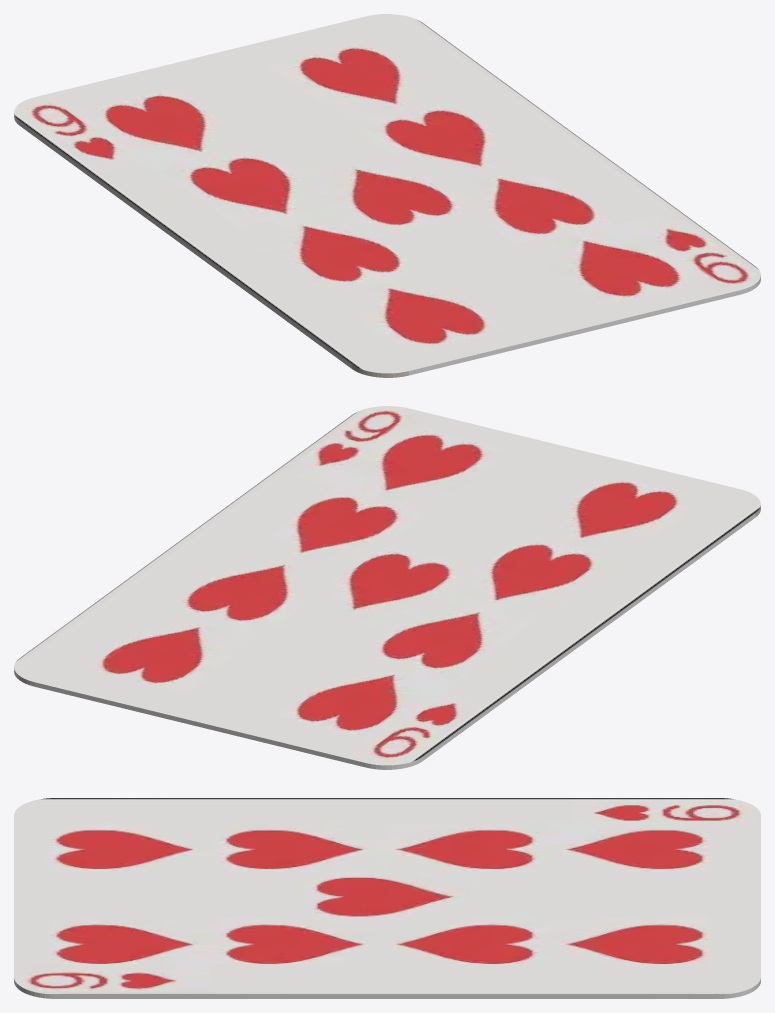
The model's file is 9 of hearts.fbx.
3 renders of one model, top to bottom at view 1: azimuth 30°, elevation 25°; view 2: azimuth 150°, elevation 25°; view 3: azimuth 270°, elevation 25°, orthographic.
Parts seen in each view (by area): view 1: Cube; view 2: Cube; view 3: Cube.
Part boxes in pixels (<box>): Cube: <box>14,14,760,377</box>; Cube: <box>14,406,760,769</box>; Cube: <box>14,798,760,998</box>.
Size of the model in its own units: 5.6 by 0.06 by 9.
3 materials, 2 textured.
